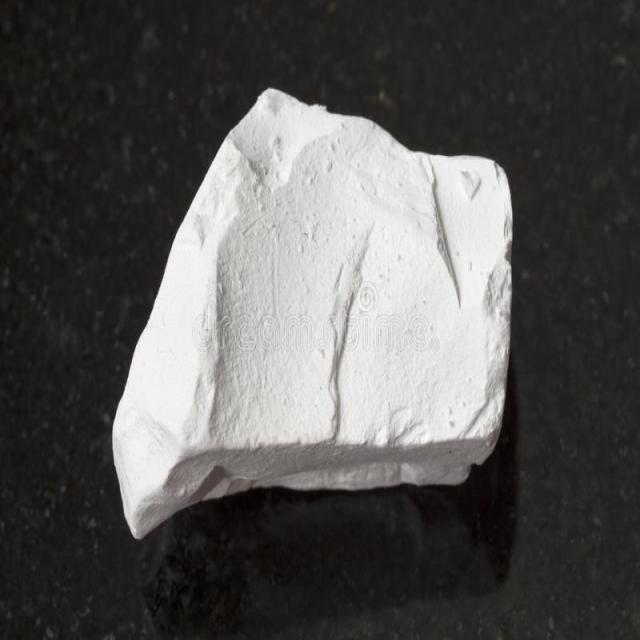Sedimentary: (99, 67, 536, 557)
